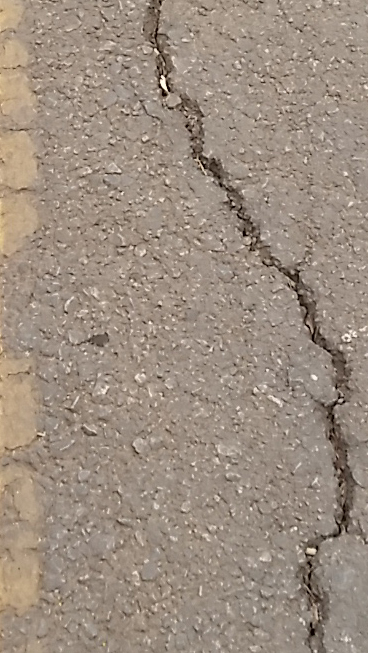A: (125, 1, 356, 644)
